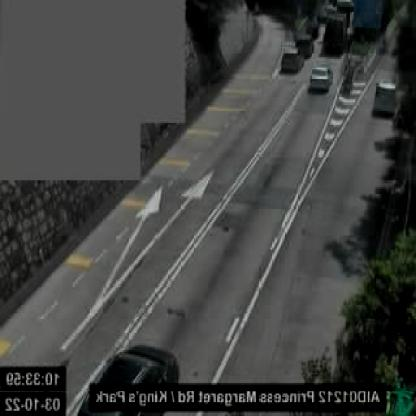Car: (370, 80, 400, 114), (281, 47, 305, 71), (308, 68, 334, 90), (295, 35, 315, 59), (306, 18, 321, 36)
Truck: (321, 12, 349, 54)
